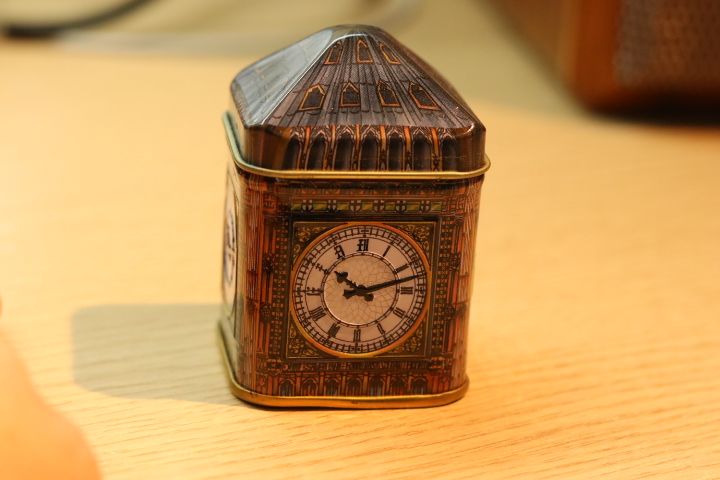Big Ben: (200, 16, 508, 415)
